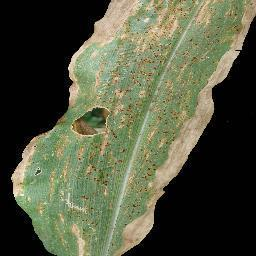Corn_Common_Rust: (11, 42, 123, 256), (162, 0, 219, 185), (123, 1, 163, 253), (219, 0, 256, 85), (77, 0, 122, 41)
